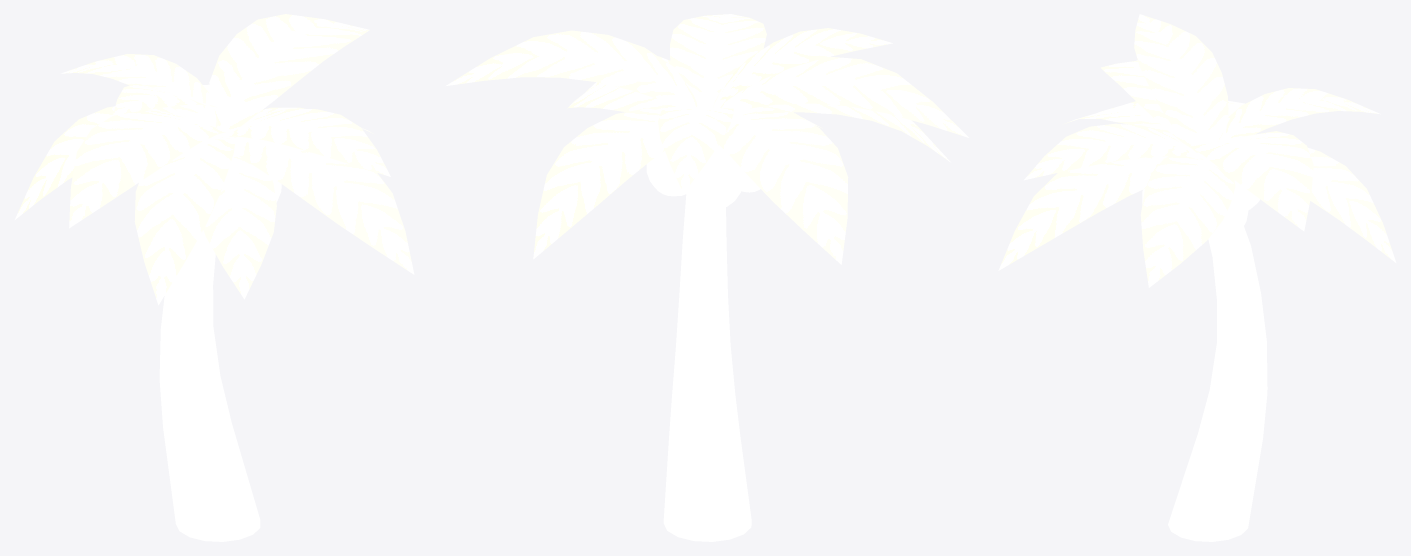
Rendered from palmTree.gltf.
3 views of the same model, side by side, from view 1: azimuth 30°, elevation 25°; view 2: azimuth 150°, elevation 25°; view 3: azimuth 270°, elevation 25° (orthographic). The views are drawn at different scales.
Visible parts, largest first — view 1: palm_tree2; view 2: palm_tree2; view 3: palm_tree2.
Part boxes in pixels (left/top/right/bottom): palm_tree2: left=15, top=14, right=414, bottom=541; palm_tree2: left=446, top=14, right=968, bottom=541; palm_tree2: left=998, top=14, right=1396, bottom=541.
Size of the model in its own units: 16.01 by 17.85 by 14.47.
1 material, 1 textured.
